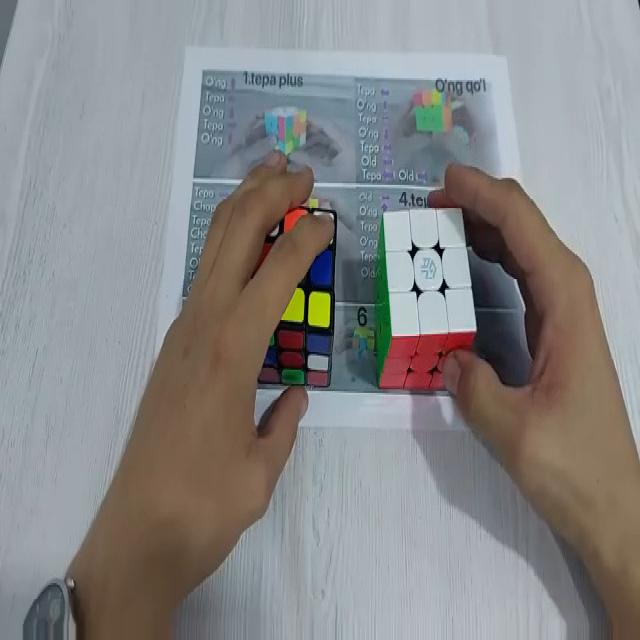Rub: (375, 202, 479, 393), (255, 200, 336, 388)
